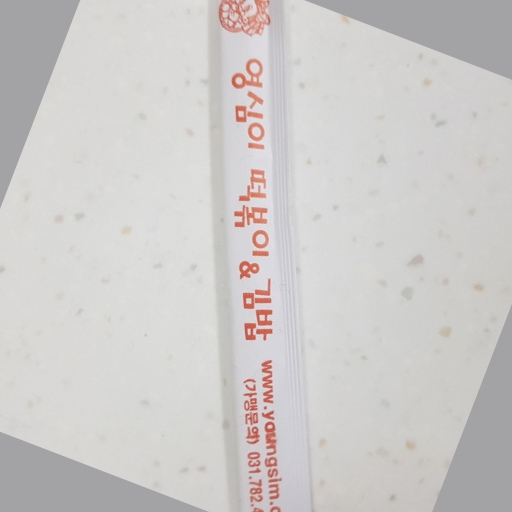Paper_2: (206, 1, 325, 512)
